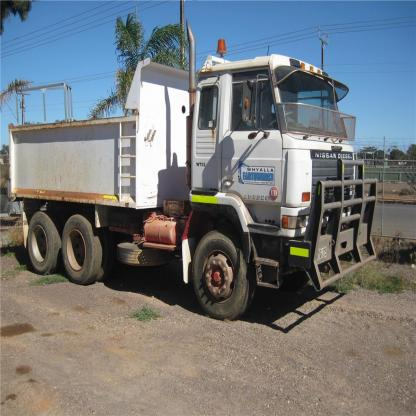dump_truck: (5, 42, 380, 339)
